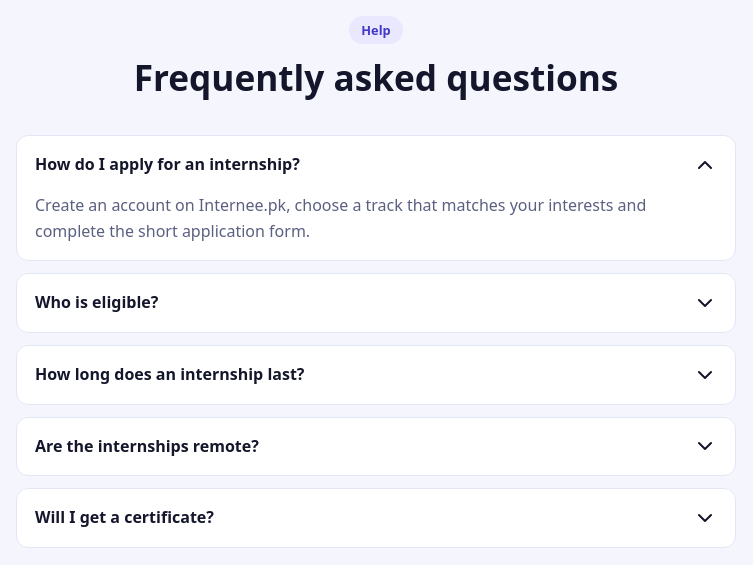
FAQ accordion › opens one item and closes it again
Click the button "Who is eligible?" at point(97, 302), box [17,274,735,332]
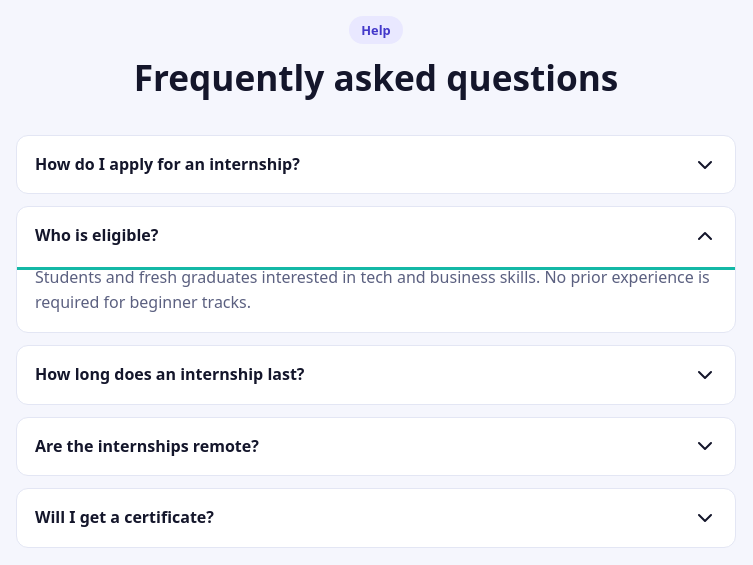
Expected: the button "Who is eligible?" is expanded
Expected: the button "How do I apply for an internship?" is collapsed, [17,136,735,193]
Click the button "Who is eligible?" at point(97, 235), box [17,207,735,265]
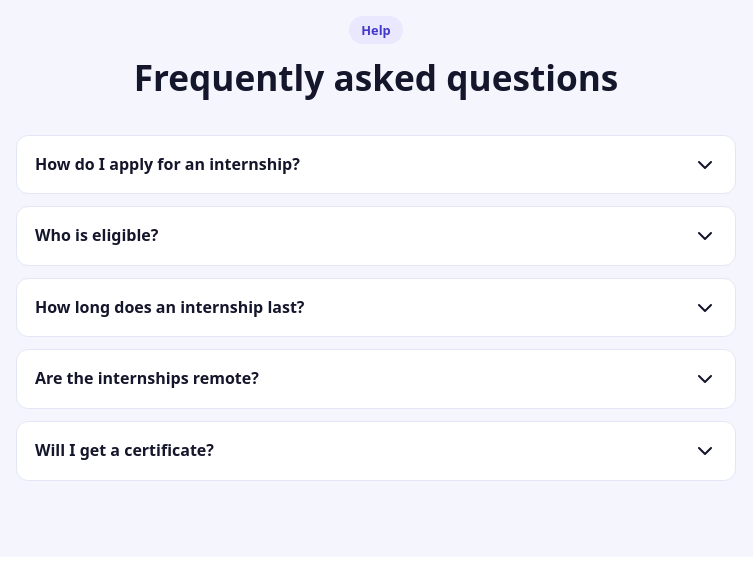
Expected: the button "Who is eligible?" is collapsed, [17,207,735,265]
